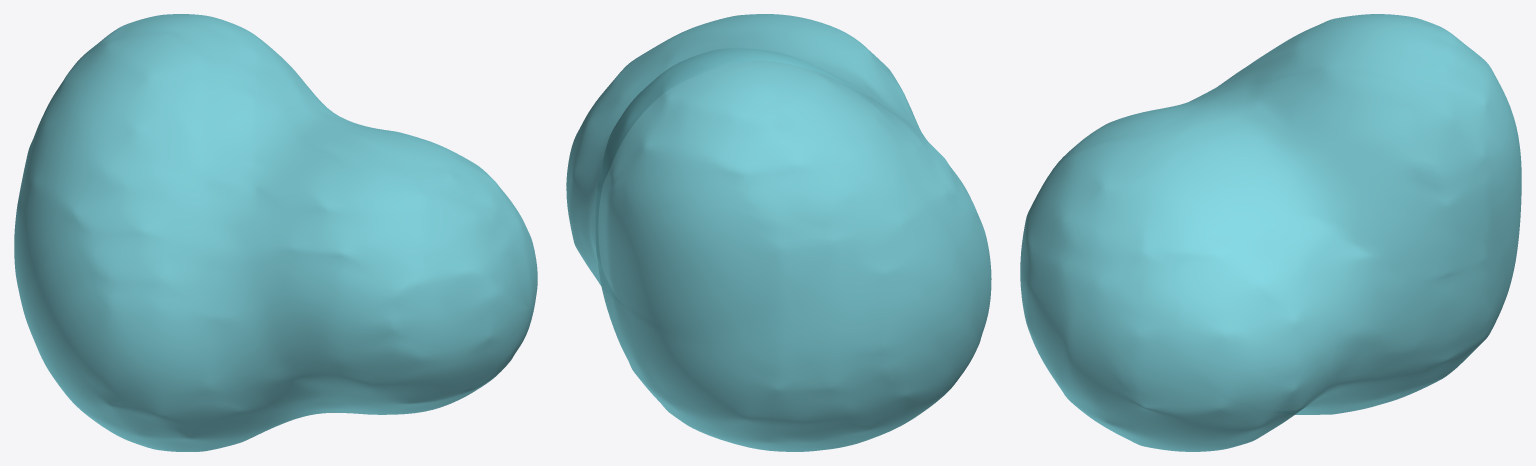
3 renders of one model, left to right at view 1: azimuth 30°, elevation 25°; view 2: azimuth 150°, elevation 25°; view 3: azimuth 270°, elevation 25°, orthographic. The views are drawn at different scales.
Parts seen in each view (by area): view 1: Mball.009; view 2: Mball.009; view 3: Mball.009.
Part boxes in pixels (x1,y1,x2,y2): Mball.009: [14, 14, 537, 451]; Mball.009: [566, 14, 991, 451]; Mball.009: [1020, 14, 1521, 451].
Size of what is drawn, in the model's own units: 2.18 by 1.85 by 2.19.
